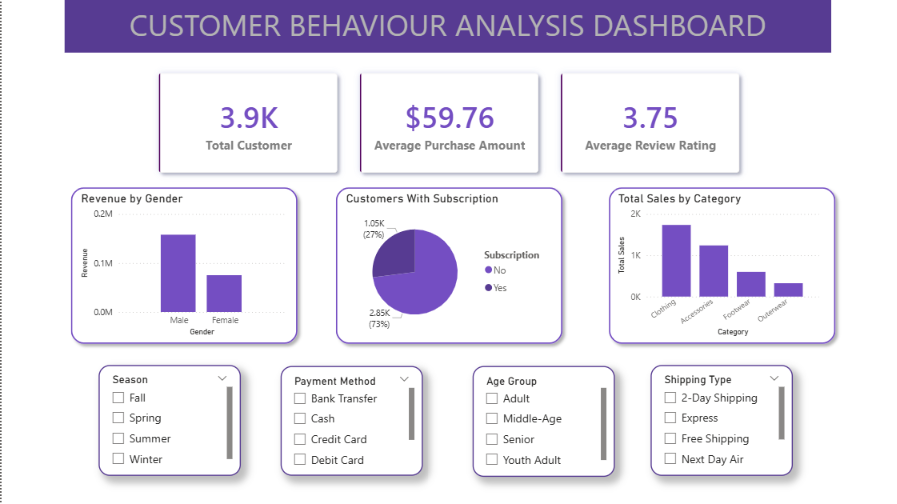

Layout of this report page (visuals, bound fields, positions):
{"tool":"powerbi","page":{"name":"Page 1","canvas":[1280,720],"ordinal":0},"visuals":[{"type":"cardVisual","fields":{"Data":["CountNonNull(customer_behaviour customer_data.customer_id)","Avg(customer_behaviour customer_data.purchase_amount)","Avg(customer_behaviour customer_data.review_rating)"]},"box":[195,75,887.5,200],"z":0},{"type":"shape","box":[90,258.3,341.7,241.7],"z":1000},{"type":"clusteredColumnChart","fields":{"Y":["Sum(customer_behaviour customer_data.purchase_amount)"],"Category":["customer_behaviour customer_data.gender"]},"box":[108.6,272.9,301.4,212.9],"z":2000},{"type":"shape","box":[858.3,258.3,341.7,241.7],"z":3000},{"type":"clusteredColumnChart","fields":{"Category":["customer_behaviour customer_data.category"],"Y":["Count(customer_behaviour customer_data.customer_id)"]},"box":[875.7,272.9,297.1,212.9],"z":4000},{"type":"shape","box":[468.3,258.3,341.7,241.7],"z":5000},{"type":"pieChart","title":"Customers With Subscription","fields":{"Category":["customer_behaviour customer_data.subscription_status"],"Y":["Count(customer_behaviour customer_data.customer_id)"]},"box":[487.1,273.1,303.3,212.7],"z":5001},{"type":"textbox","box":[90,0,1095,75],"z":5002},{"type":"slicer","fields":{"Values":["customer_behaviour customer_data.age_group"]},"box":[672.9,522.9,202.9,158.6],"z":5003},{"type":"slicer","fields":{"Values":["customer_behaviour customer_data.season"]},"box":[138.6,521.4,202.9,158.6],"z":5004},{"type":"slicer","fields":{"Values":["customer_behaviour customer_data.payment_method"]},"box":[398.6,522.9,202.9,157.1],"z":5005},{"type":"slicer","fields":{"Values":["customer_behaviour customer_data.shipping_type"]},"box":[927.1,521.4,202.9,158.6],"z":5006}]}

Visuals, with their boxes in screenshot pixels (x1, y1, x2, y2), scaled from the page's 1280x720 canvas onto the 897x504 screenshot:
cardVisual - CountNonNull(customer_behaviour customer_data.customer_id) x Avg(customer_behaviour customer_data.purchase_amount): 137, 52, 759, 192
shape: 63, 181, 303, 350
clusteredColumnChart - Sum(customer_behaviour customer_data.purchase_amount) x customer_behaviour customer_data.gender: 76, 191, 287, 340
shape: 601, 181, 841, 350
clusteredColumnChart - customer_behaviour customer_data.category x Count(customer_behaviour customer_data.customer_id): 614, 191, 822, 340
shape: 328, 181, 568, 350
"Customers With Subscription" pieChart: 341, 191, 554, 340
textbox: 63, 0, 830, 52
slicer - customer_behaviour customer_data.age_group: 472, 366, 614, 477
slicer - customer_behaviour customer_data.season: 97, 365, 239, 476
slicer - customer_behaviour customer_data.payment_method: 279, 366, 422, 476
slicer - customer_behaviour customer_data.shipping_type: 650, 365, 792, 476
